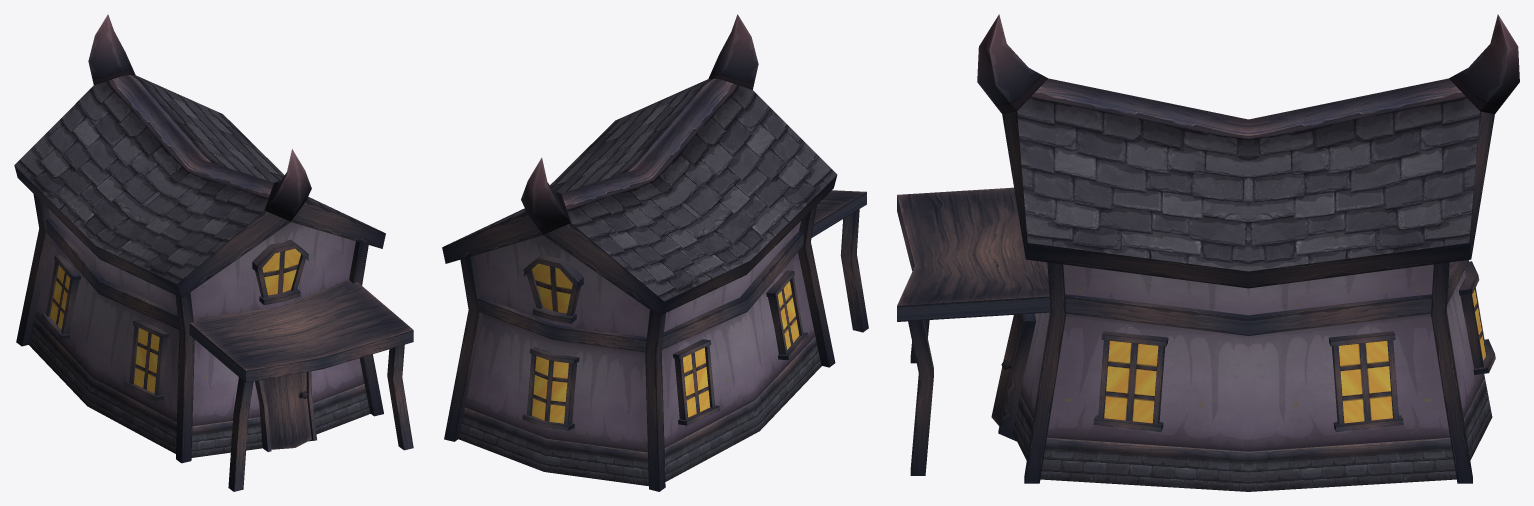
File: House_B.fbx
The picture shows the model from 3 angles, left to right: view 1: azimuth 30°, elevation 25°; view 2: azimuth 150°, elevation 25°; view 3: azimuth 270°, elevation 25°; orthographic projection. The views are drawn at different scales.
Visible parts, largest first — view 1: House_B; view 2: House_B; view 3: House_B.
Part boxes in pixels (x1,y1,x2,y2): House_B: (14,14,413,491); House_B: (442,14,868,491); House_B: (897,14,1519,491).
Size of the model in its own units: 160 by 209 by 282.
Materials: 1 (1 with a texture image).
